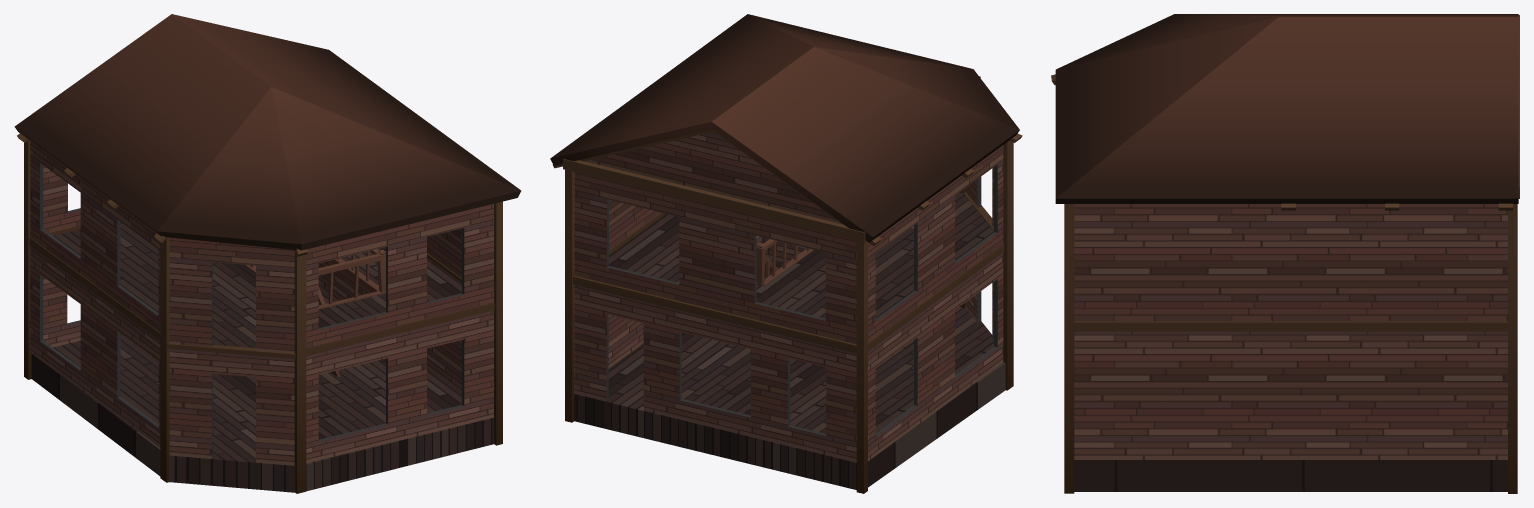
The model's file is House 8 M Brown.glb.
3 views of the same model, side by side, from view 1: azimuth 30°, elevation 25°; view 2: azimuth 150°, elevation 25°; view 3: azimuth 270°, elevation 25° (orthographic). The views are drawn at different scales.
Parts seen in each view (by area): view 1: House 8 M Brown; view 2: House 8 M Brown; view 3: House 8 M Brown.
Part boxes in pixels (<box>): House 8 M Brown: <box>14,14,521,493</box>; House 8 M Brown: <box>550,14,1022,493</box>; House 8 M Brown: <box>1051,14,1519,493</box>.
Size of what is drawn, in the model's own units: 8.87 by 8.8 by 9.51.
Materials: 3 (3 with a texture image).
